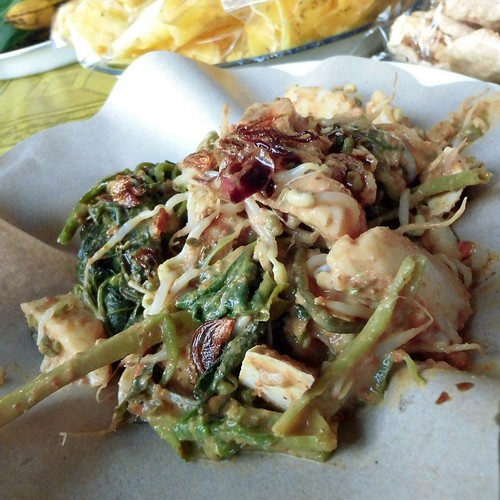tipat cantok: (49, 82, 467, 447)
